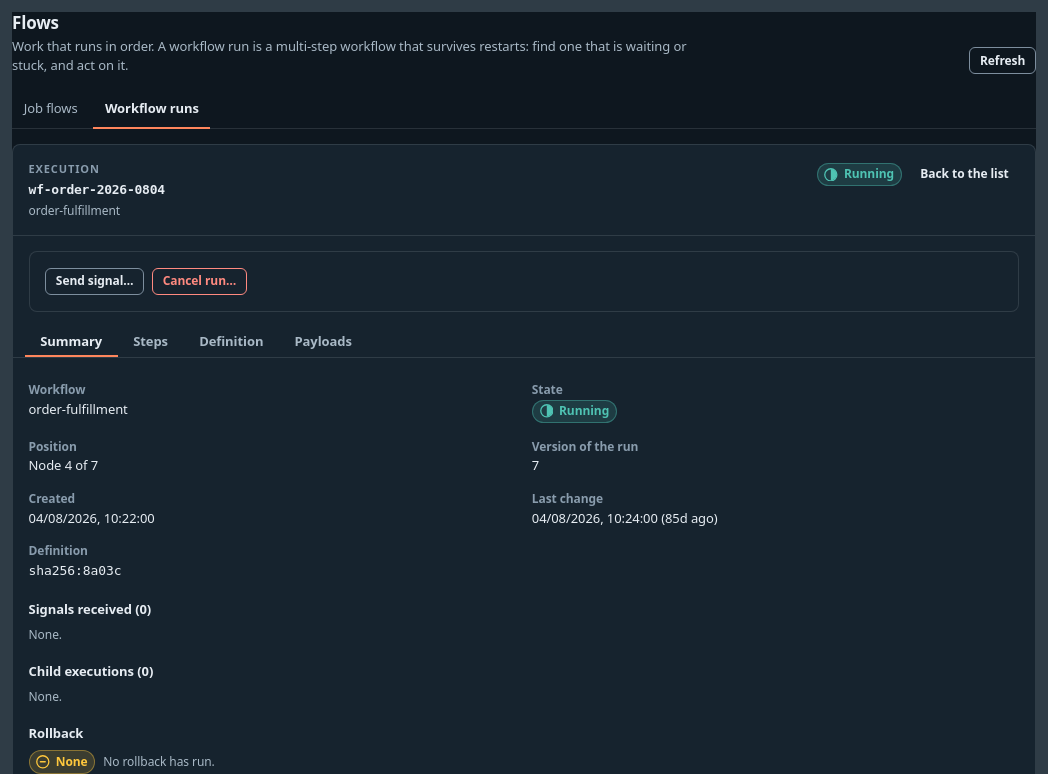
Scenario: workflow actions: destructive ones › cancel waits for the run id to be typed, then sends it as the confirmation
This screenshot has width=1048, height=774.
Click the button "Cancel run…": (199, 281) [152,268,247,295]
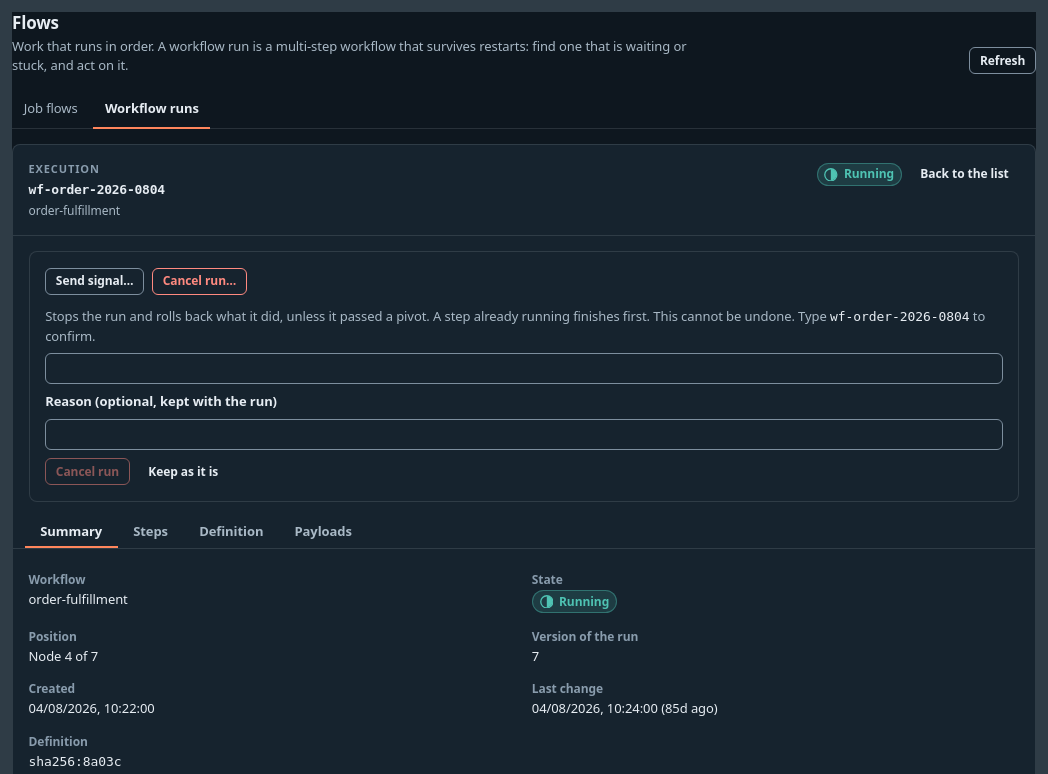
Check: the submit button is disabled, box [45,458,130,486]
Submit the form, box [45,307,1003,486]
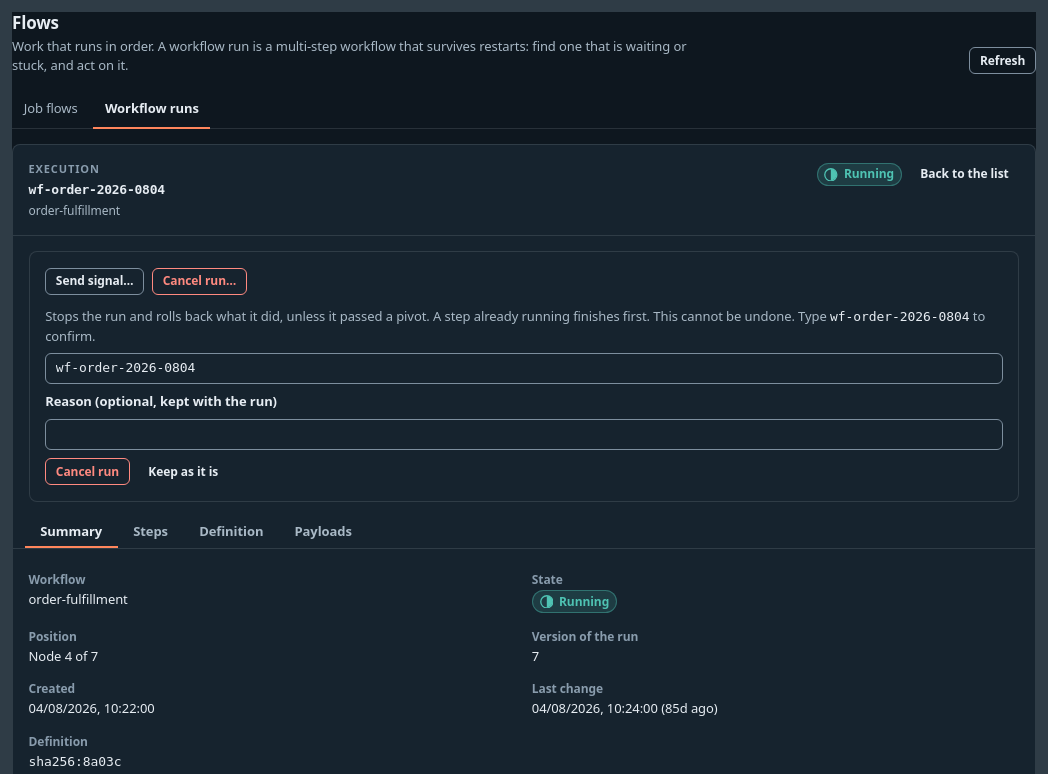
Check: the submit button is enabled, box [45,458,130,486]
Submit the form, box [45,307,1003,486]
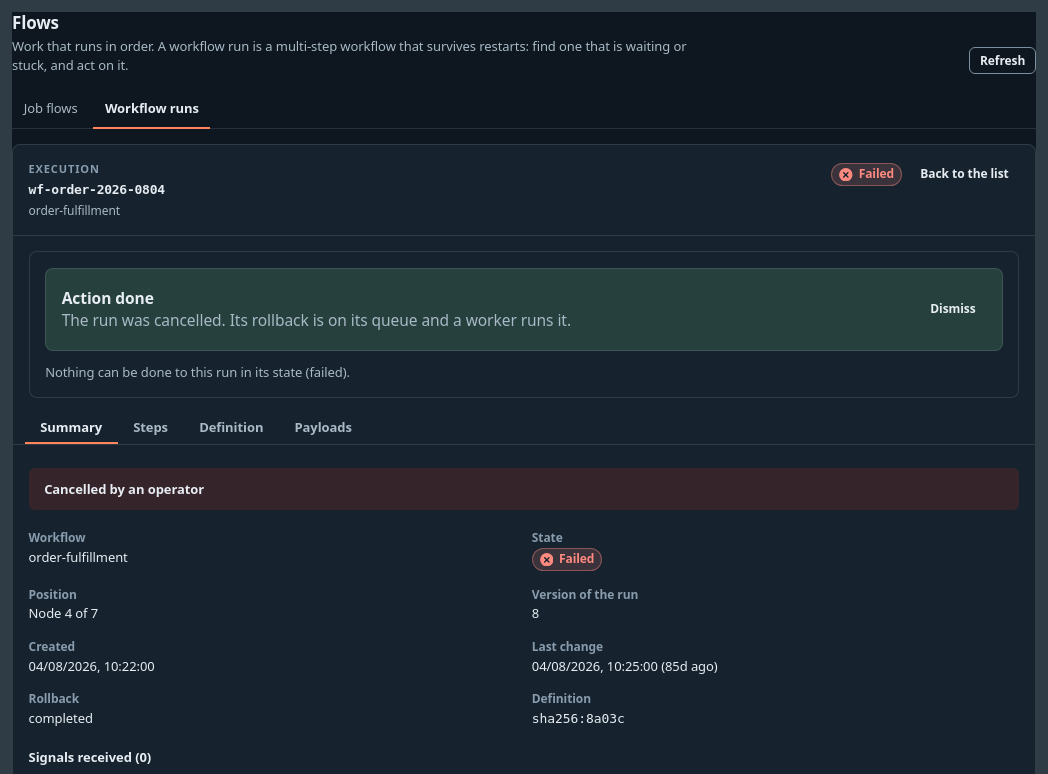
Check: the text "The run was cancelled" is shown, box [62,309,571,331]
Check: the text "Cancelled by an operator" is shown, box [29,468,1020,510]
